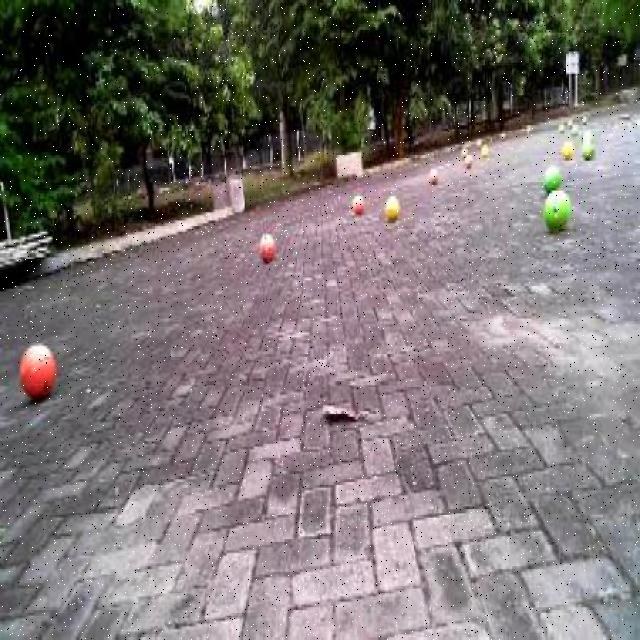buoy: (15, 330, 59, 408), (541, 182, 573, 240), (255, 225, 277, 263), (382, 188, 402, 223), (541, 160, 561, 190), (349, 185, 365, 215)
